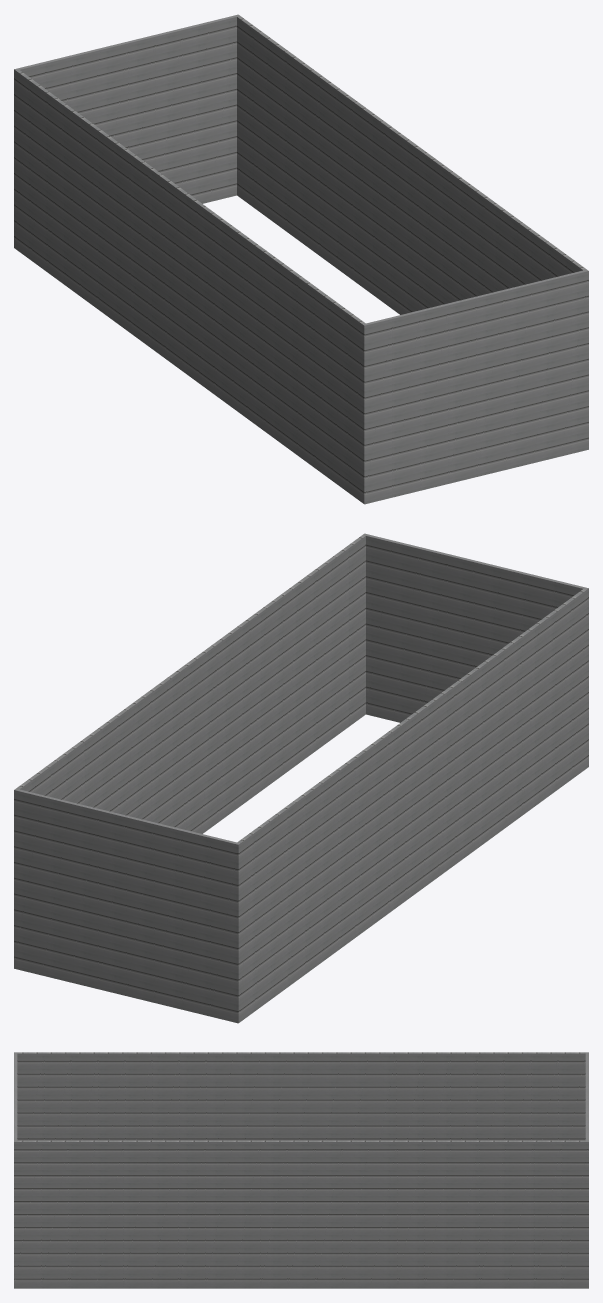
Rendered from exteriorGf.glb.
3 renders of one model, top to bottom at view 1: azimuth 30°, elevation 25°; view 2: azimuth 150°, elevation 25°; view 3: azimuth 270°, elevation 25°, orthographic. The views are drawn at different scales.
Visible parts, largest first — view 1: exteriorwall; view 2: exteriorwall; view 3: exteriorwall.
Boxes of the visible parts, x1=… form: exteriorwall: x1=14, y1=14, x2=588, y2=504; exteriorwall: x1=14, y1=533, x2=588, y2=1023; exteriorwall: x1=14, y1=1052, x2=588, y2=1288.
Size of the model in its own units: 3.68 by 2.8 by 9.96.
Materials: 1 (1 with a texture image).
